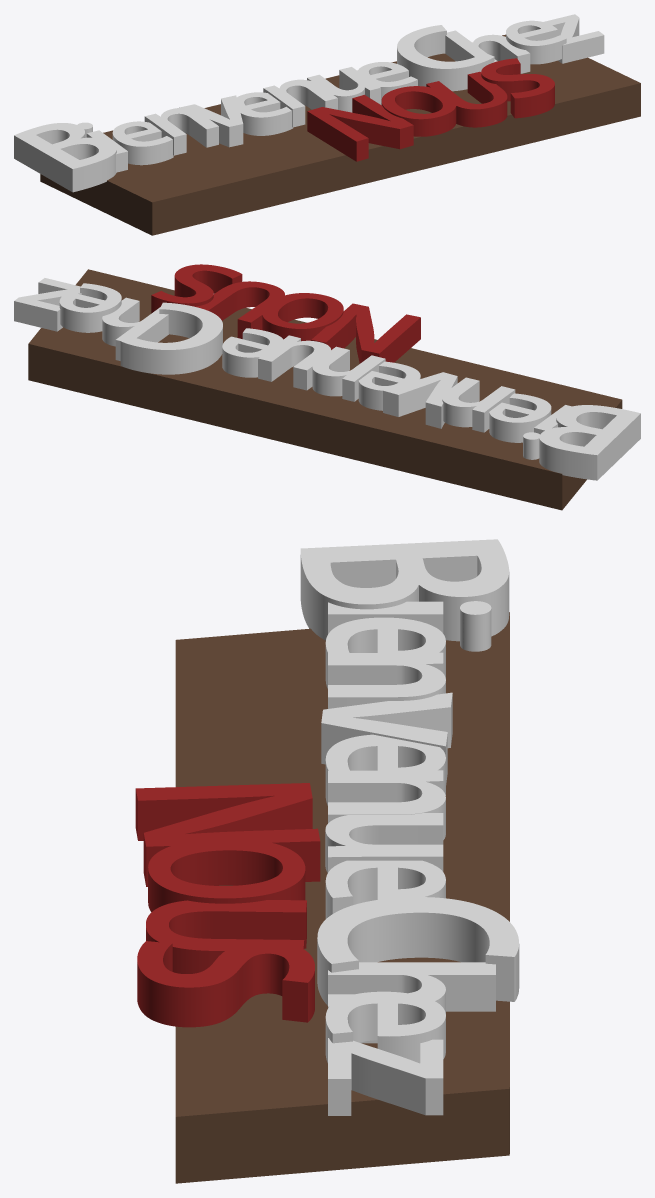
Rendered from titre.fbx.
The picture shows the model from 3 angles, top to bottom: view 1: azimuth 30°, elevation 25°; view 2: azimuth 150°, elevation 25°; view 3: azimuth 270°, elevation 25°; orthographic projection. The views are drawn at different scales.
Visible parts, largest first — view 1: typeMesh2; view 2: typeMesh2; view 3: typeMesh2.
Boxes of the visible parts, box(x1,y1,x2,y2) form: typeMesh2: box(14, 14, 640, 235); typeMesh2: box(14, 264, 640, 510); typeMesh2: box(135, 539, 519, 1183).
Size of the model in its own units: 318 by 32.04 by 96.18.
